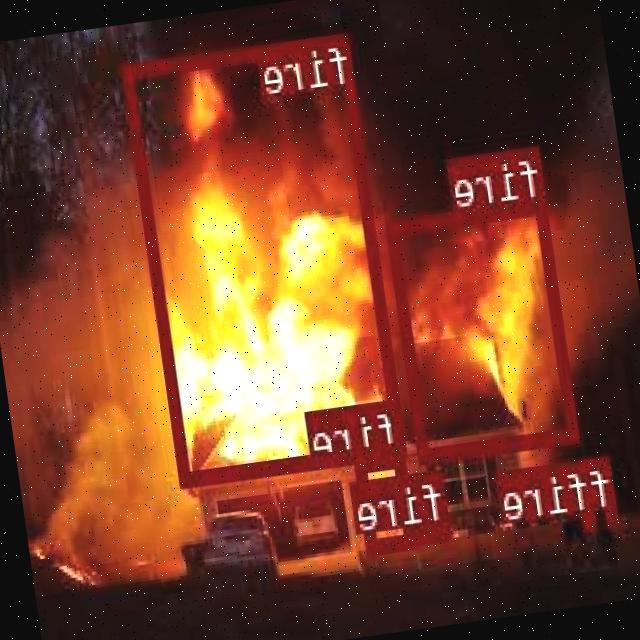fire: (126, 32, 409, 484), (386, 195, 582, 460), (356, 450, 419, 551), (415, 518, 452, 542), (583, 510, 598, 530), (609, 507, 620, 521)
